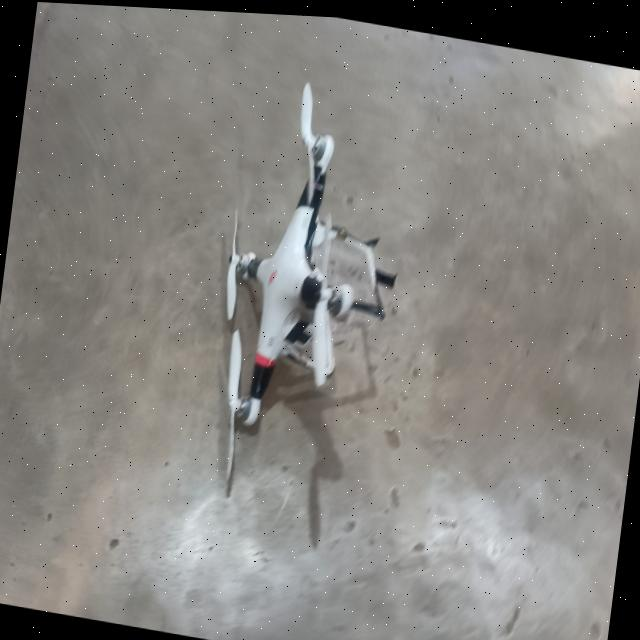drone: (152, 49, 434, 520)
